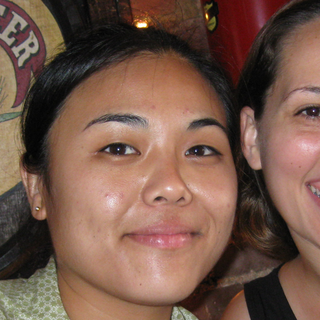eye: (92, 139, 144, 161), (177, 140, 224, 164), (291, 99, 320, 119)
